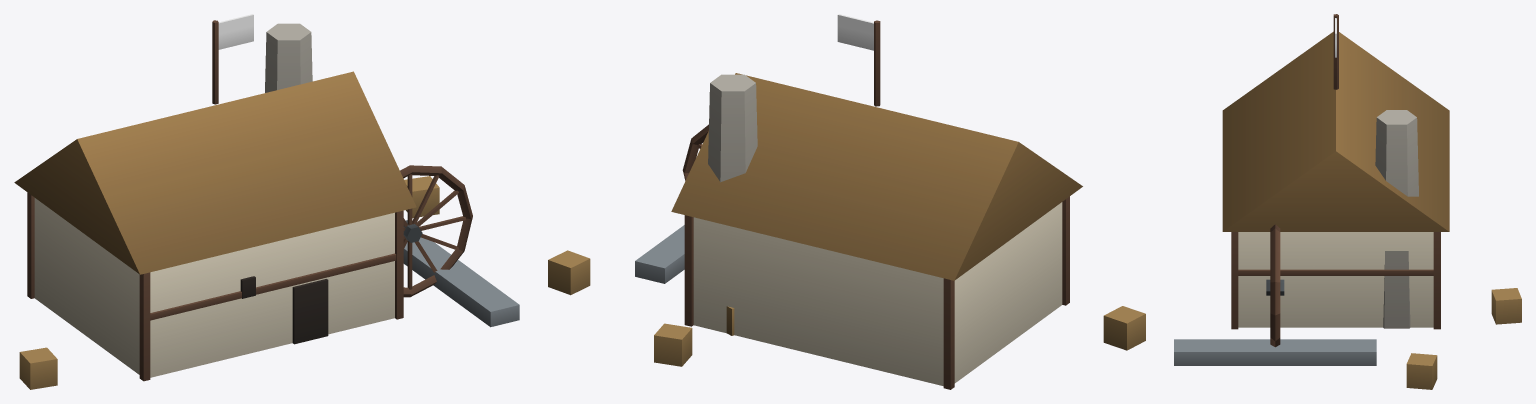
File: FACTORY_NE.glb
3 views of the same model, side by side, from view 1: azimuth 30°, elevation 25°; view 2: azimuth 150°, elevation 25°; view 3: azimuth 270°, elevation 25° (orthographic). The views are drawn at different scales.
Visible parts, largest first — view 1: Body, Wheel_water, Flag; view 2: Body, Flag, Wheel_water; view 3: Body, Wheel_water.
Part boxes in pixels (x1,y1,x2,y2): Body: (14, 20, 519, 389); Wheel_water: (400, 165, 472, 297); Flag: (218, 14, 253, 49); Body: (548, 20, 1145, 389); Flag: (837, 14, 873, 50); Wheel_water: (682, 124, 708, 180); Body: (1174, 14, 1521, 389); Wheel_water: (1266, 224, 1284, 347).
Bounding box in the file's own units: 5.05 × 2.85 × 3.43.
Materials: 1 (1 with a texture image).
